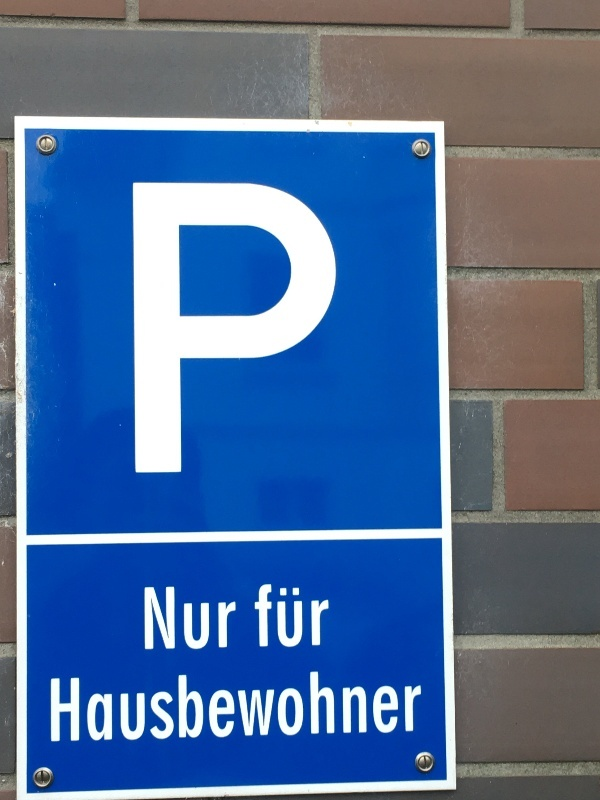text: (145, 180, 160, 477), (161, 180, 176, 477), (177, 180, 192, 477), (193, 180, 208, 477), (209, 180, 224, 477), (225, 180, 240, 477), (241, 180, 256, 477), (257, 180, 272, 477), (273, 180, 288, 477), (289, 180, 304, 477), (305, 180, 320, 477), (321, 180, 336, 477), (130, 180, 144, 477), (65, 667, 80, 745), (81, 667, 96, 745), (97, 667, 112, 745), (113, 667, 128, 745), (129, 667, 144, 745), (145, 667, 160, 745), (161, 667, 176, 745), (177, 667, 192, 745), (193, 667, 208, 745), (209, 667, 224, 745), (225, 667, 240, 745), (241, 667, 256, 745), (257, 667, 272, 745), (273, 667, 288, 745), (289, 667, 304, 745), (305, 667, 320, 745), (321, 667, 336, 745), (337, 667, 352, 745), (353, 667, 368, 745), (369, 667, 384, 745), (385, 667, 400, 745), (401, 667, 416, 745), (50, 667, 64, 745), (145, 584, 160, 655), (161, 584, 176, 655), (177, 584, 192, 655), (193, 584, 208, 655), (209, 584, 224, 655), (225, 584, 240, 655), (257, 581, 272, 651), (273, 581, 288, 651), (289, 581, 304, 651), (305, 581, 320, 651), (321, 581, 332, 651), (417, 667, 423, 745), (337, 180, 338, 477), (252, 581, 256, 651), (143, 584, 144, 655)
